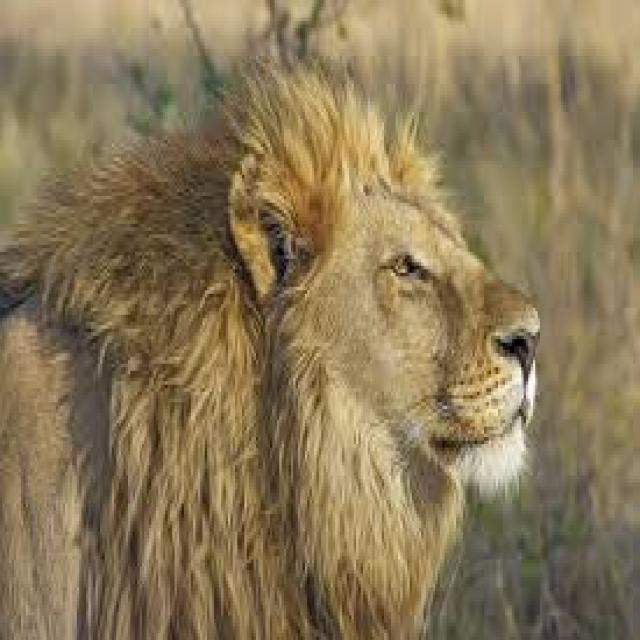Lion: (0, 54, 537, 637)
